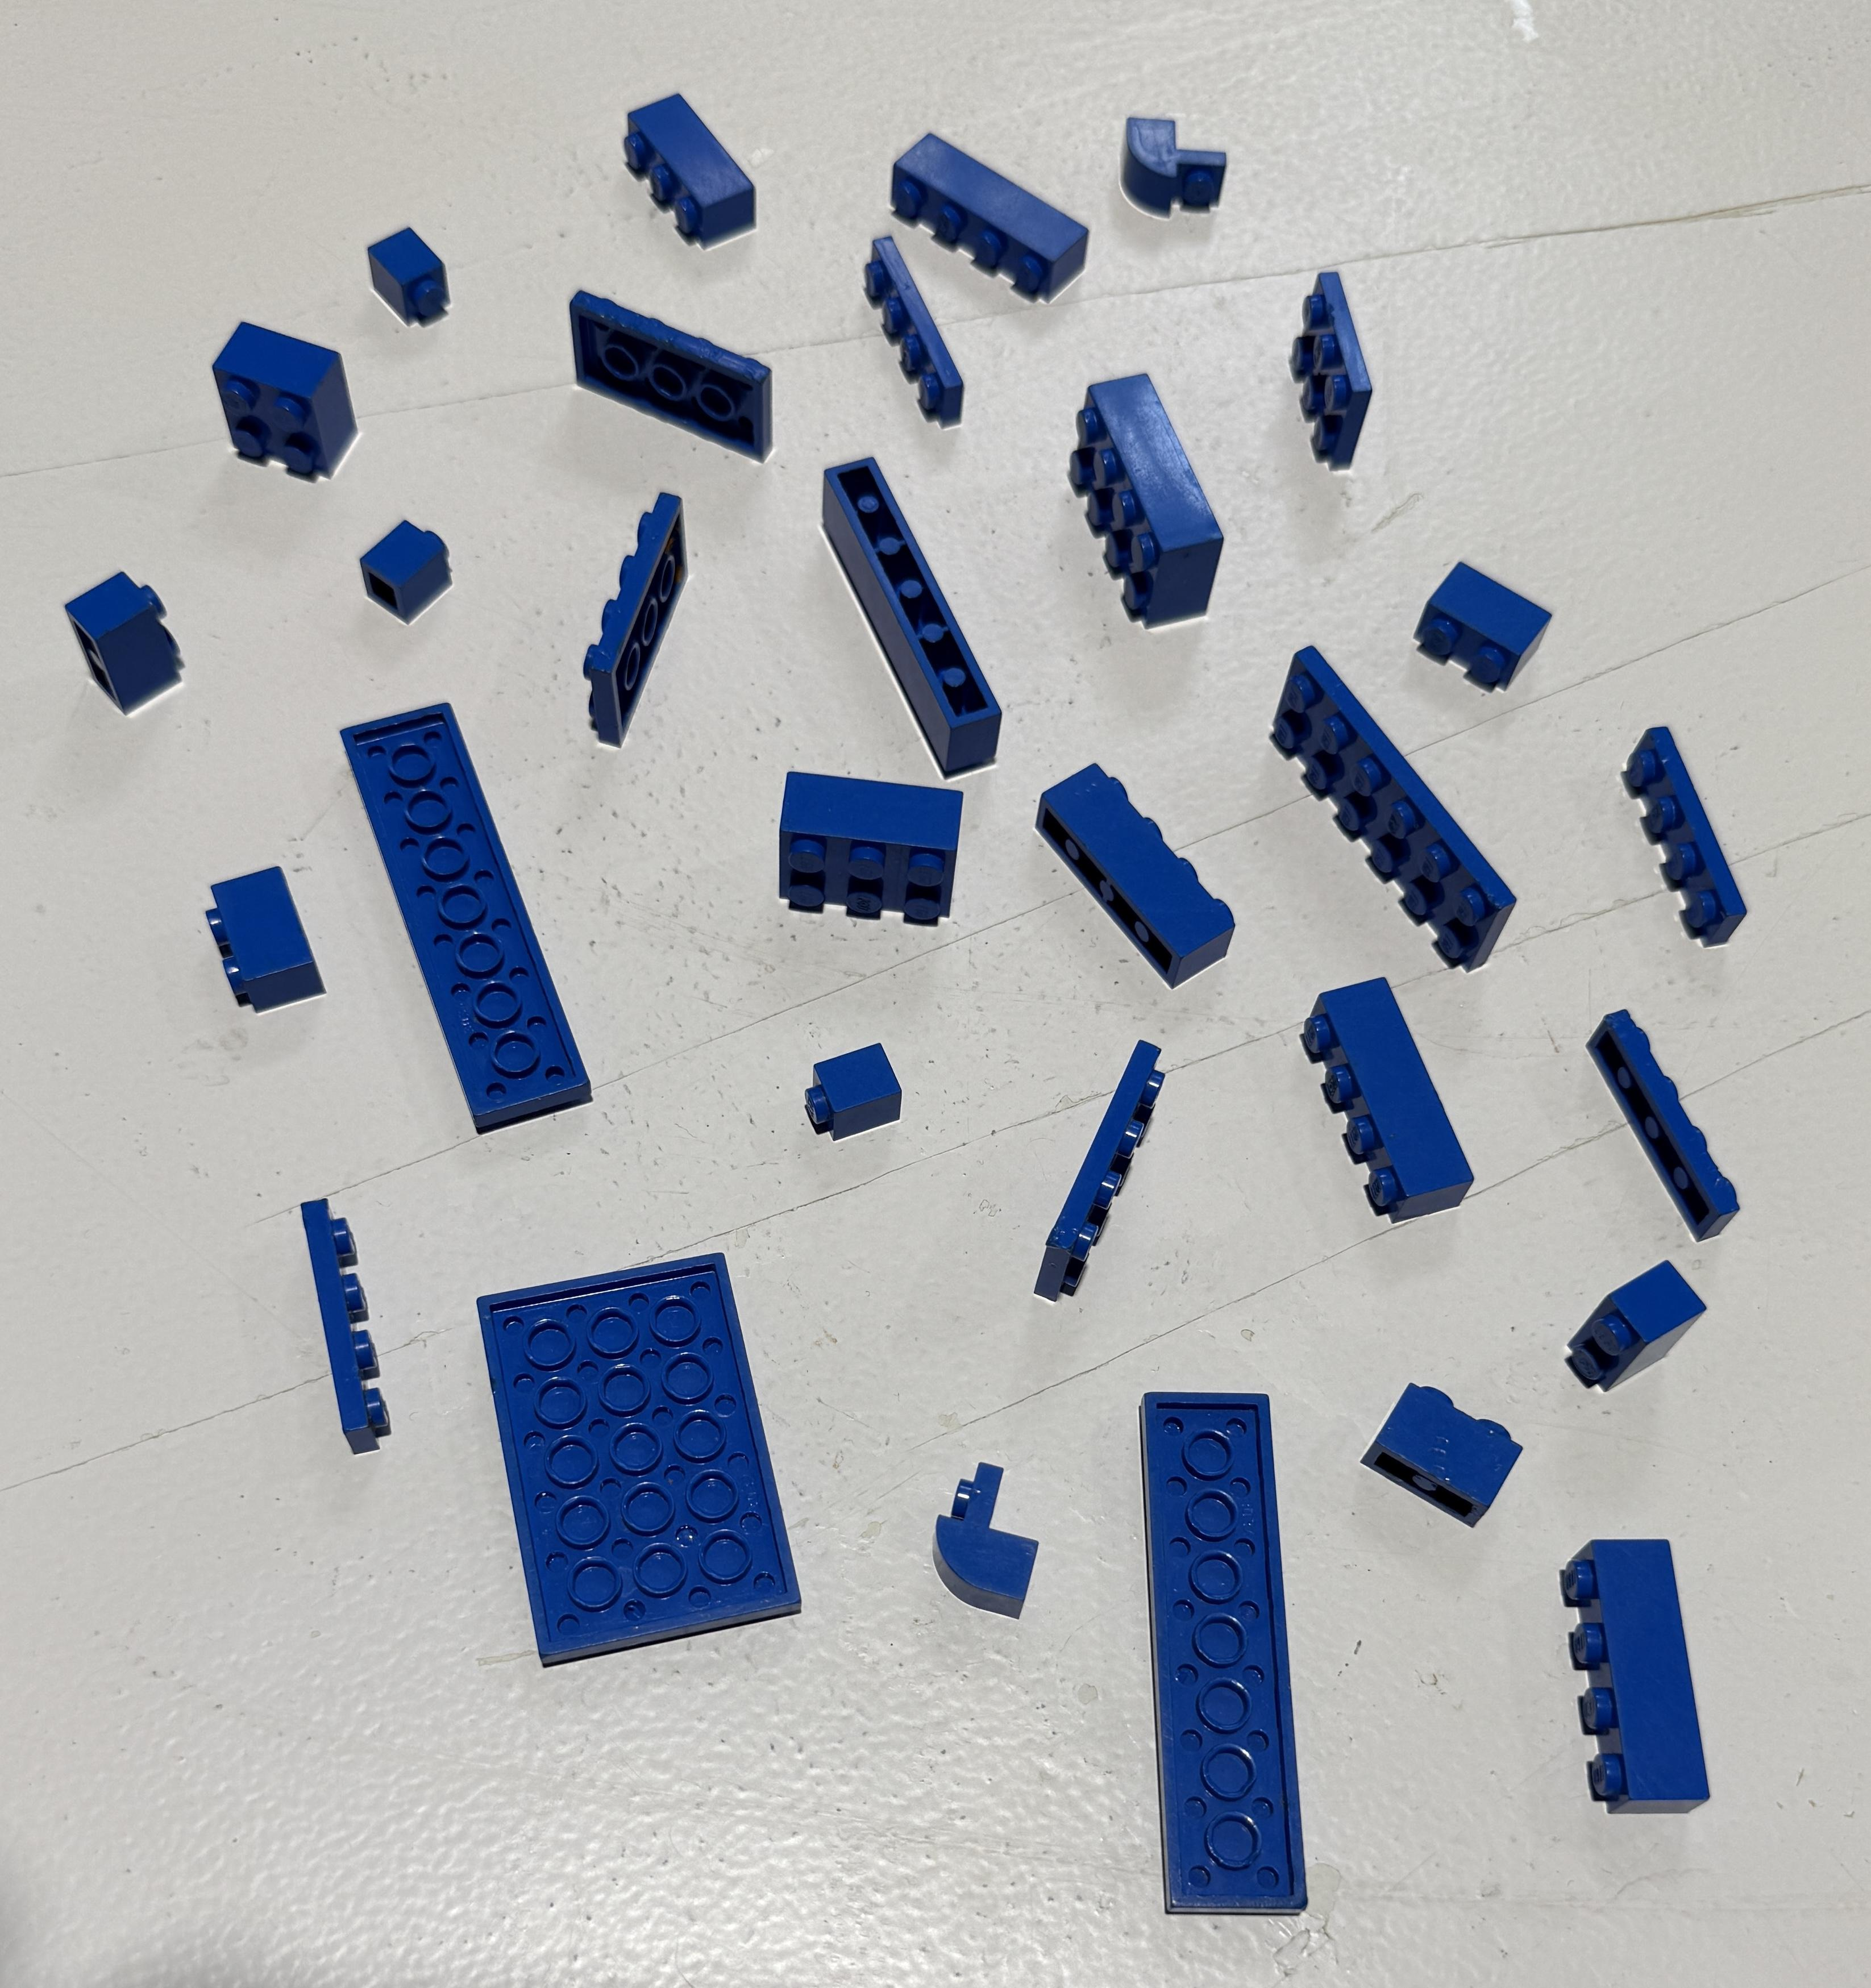brick_1x1: (775, 1016, 935, 1151), (346, 209, 466, 362), (336, 501, 471, 620)
brick_1x2: (1352, 1345, 1537, 1545), (1551, 1232, 1723, 1429), (1398, 533, 1577, 710), (179, 842, 341, 1025), (55, 520, 186, 731)
brick_1x3: (603, 63, 790, 287)
brick_1x4: (1292, 953, 1503, 1260), (1560, 1499, 1734, 1860), (1034, 742, 1259, 995), (872, 112, 1111, 313)
brick_2x2: (193, 297, 373, 489)
brick_2x3: (758, 759, 981, 953)
brick_2x4: (1052, 357, 1240, 645)
